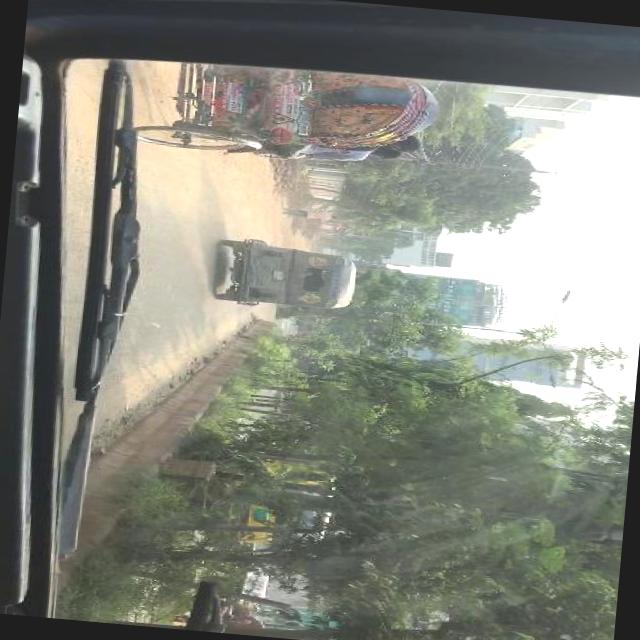motorcycle: (140, 54, 440, 167), (218, 236, 357, 312)
truck: (210, 452, 339, 550)
